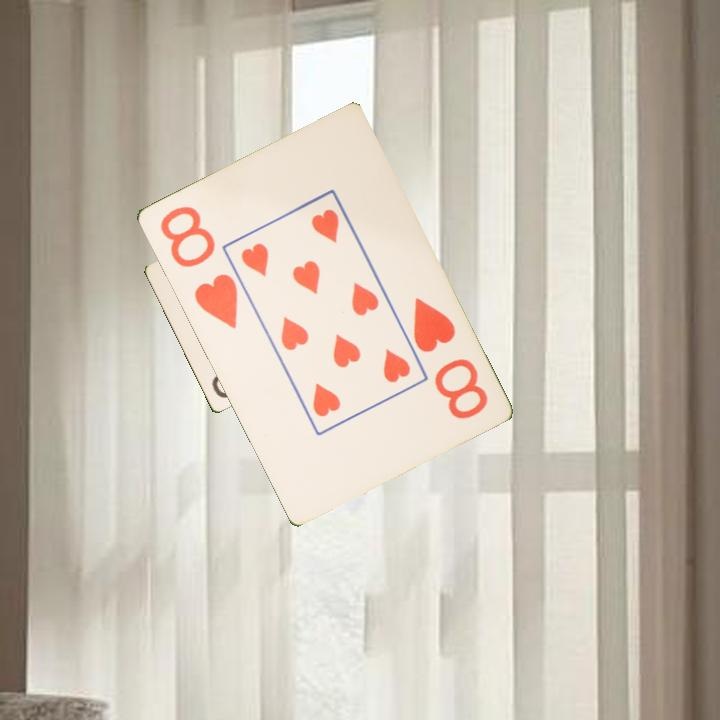8h: (155, 202, 240, 332), (408, 293, 491, 422)
